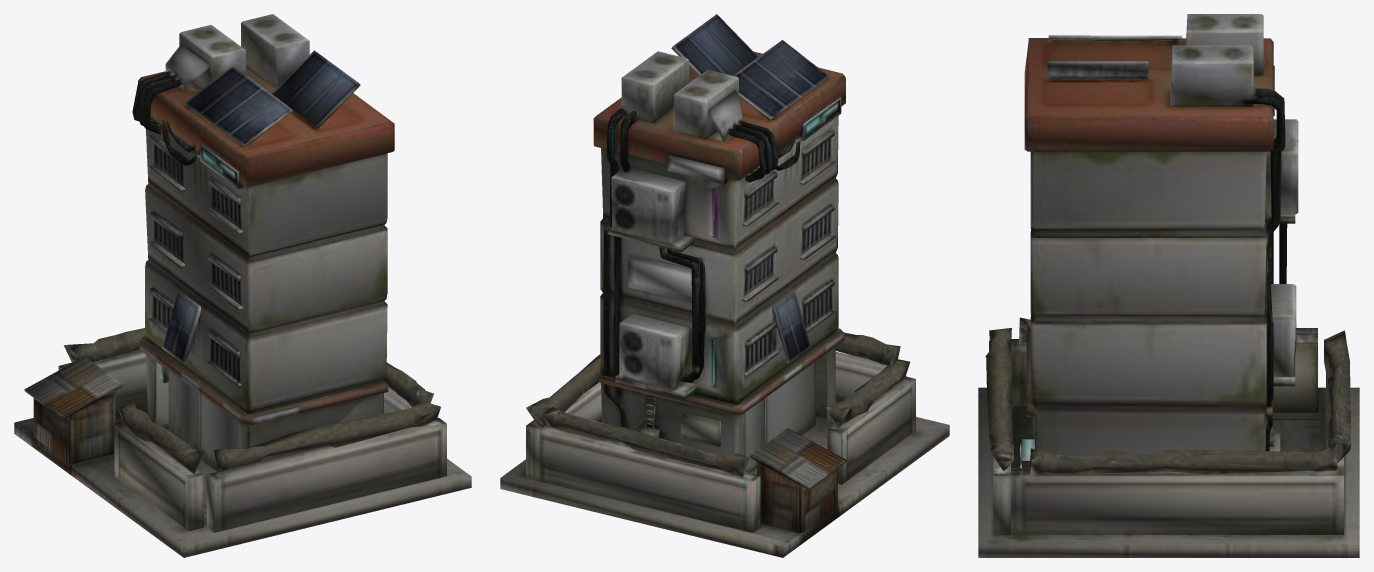
The model's file is server_compound.glb.
3 views of the same model, side by side, from view 1: azimuth 30°, elevation 25°; view 2: azimuth 150°, elevation 25°; view 3: azimuth 270°, elevation 25° (orthographic). The views are drawn at different scales.
Parts seen in each view (by area): view 1: Body, Glow; view 2: Body; view 3: Body.
Part boxes in pixels (x1,y1,x2,y2): Body: (14, 14, 471, 557); Glow: (339, 382, 383, 422); Body: (500, 14, 949, 557); Body: (978, 14, 1359, 557).
Bounding box in the file's own units: 15.88 × 20.66 × 15.75.
Materials: 2 (2 with a texture image).
